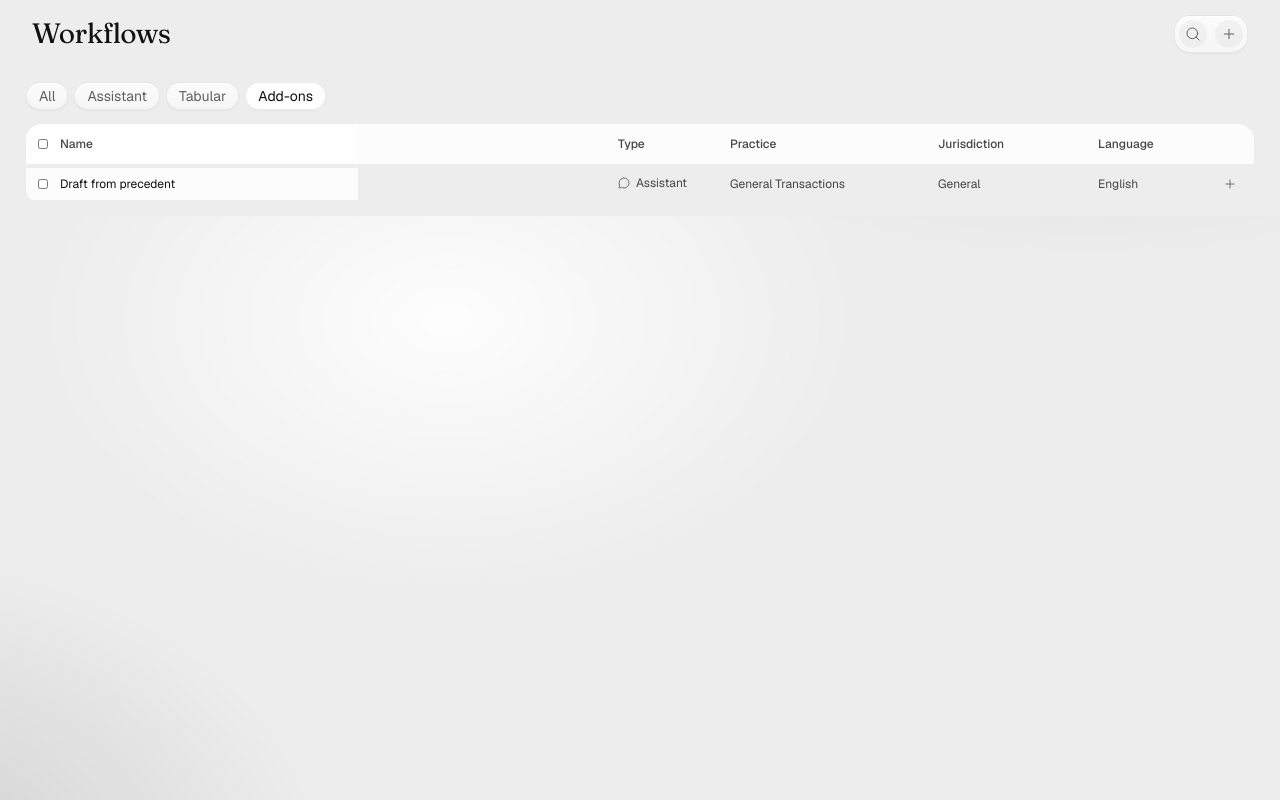
WorkflowList pack toolbar › shows Imported with a green tick and stays on Add-ons
This screenshot has width=1280, height=800.
Click the button named "Import": (1230, 184) [1218,172,1242,196]
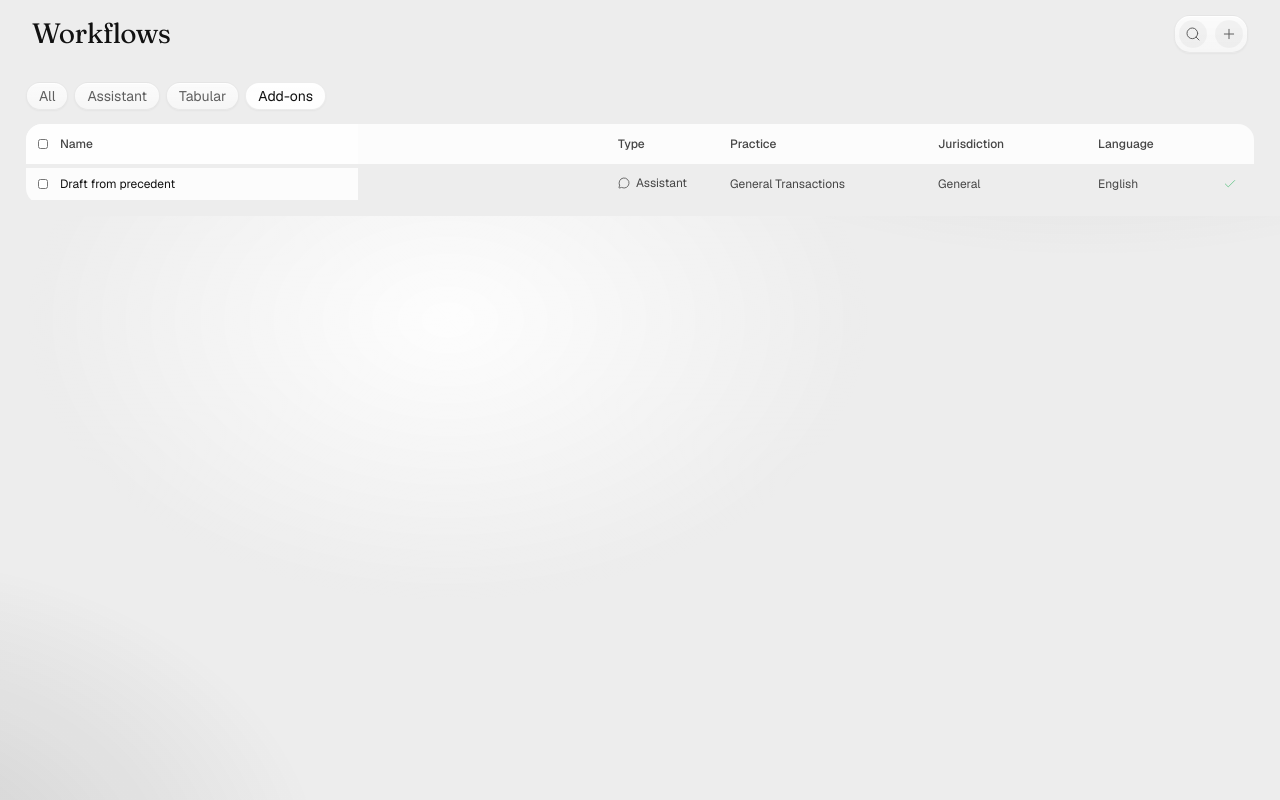
expect the 4th icon is shown: met, box [1223,177,1237,191]
expect the button named "Imported" is disabled: met, box [1218,172,1242,196]
